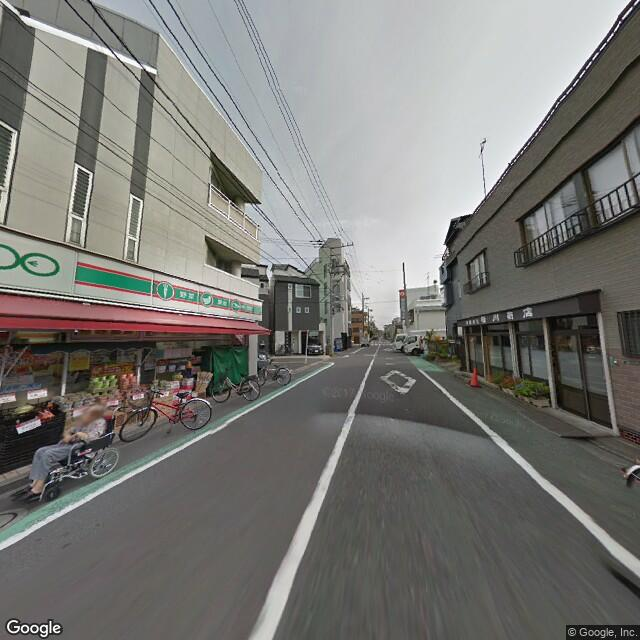lawson: (1, 227, 267, 325)
